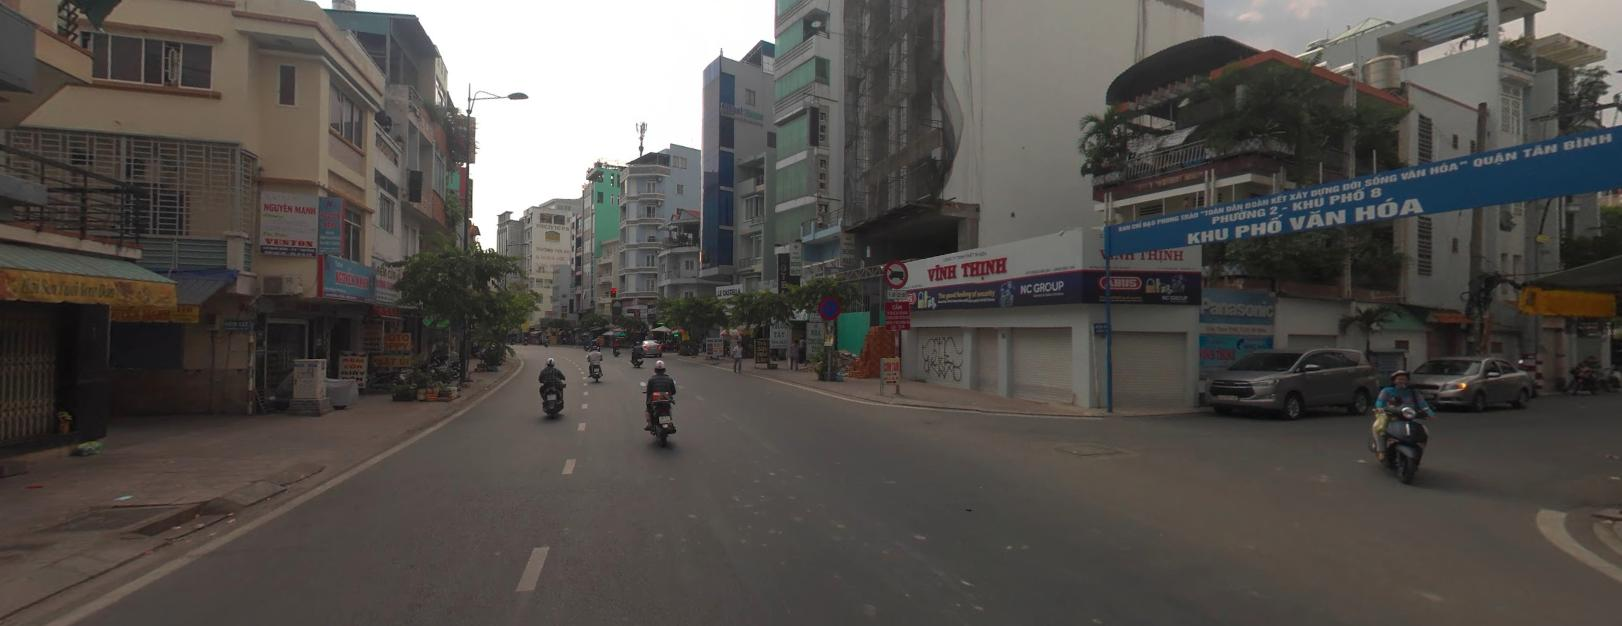Cam con lai: (883, 257, 908, 287)
Cam dung va do: (818, 294, 842, 317)
